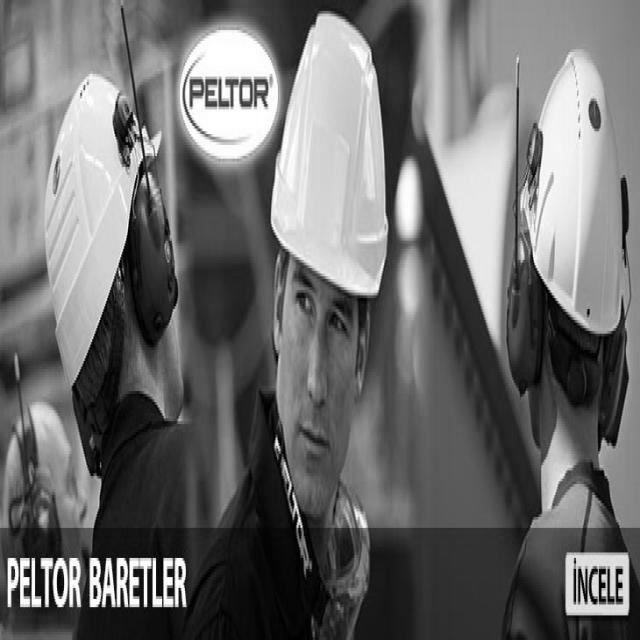construction helmet: (270, 14, 388, 295), (520, 49, 626, 342), (46, 77, 144, 388)
